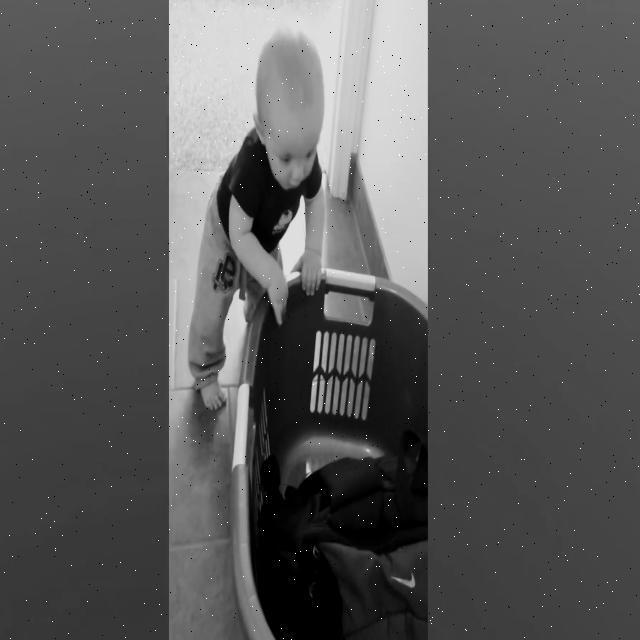child: (187, 28, 326, 411)
